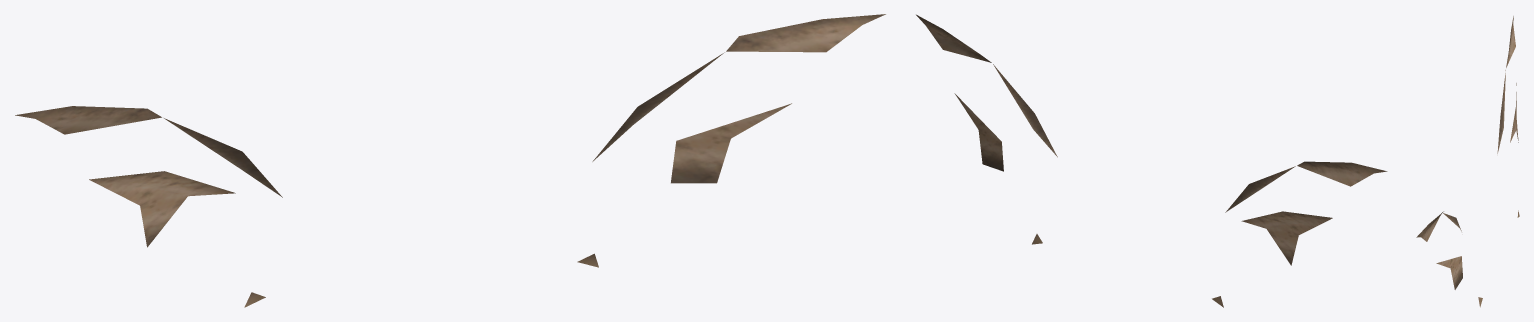
File: ghidorah_mesh_ghidorah_mesh_3_lev1.glb
3 renders of one model, left to right at view 1: azimuth 30°, elevation 25°; view 2: azimuth 150°, elevation 25°; view 3: azimuth 270°, elevation 25°, orthographic. The views are drawn at different scales.
Visible parts, largest first — view 1: ghidorah_mesh_ghidorah_mesh_3_lev1; view 2: ghidorah_mesh_ghidorah_mesh_3_lev1; view 3: ghidorah_mesh_ghidorah_mesh_3_lev1.
Part boxes in pixels (box(x1,y1,x2,y2)): ghidorah_mesh_ghidorah_mesh_3_lev1: box(15, 14, 885, 307); ghidorah_mesh_ghidorah_mesh_3_lev1: box(916, 14, 1387, 307); ghidorah_mesh_ghidorah_mesh_3_lev1: box(1416, 16, 1519, 307).
Bounding box in the file's own units: 52.34 × 16.93 × 10.91.
1 material, 1 textured.
